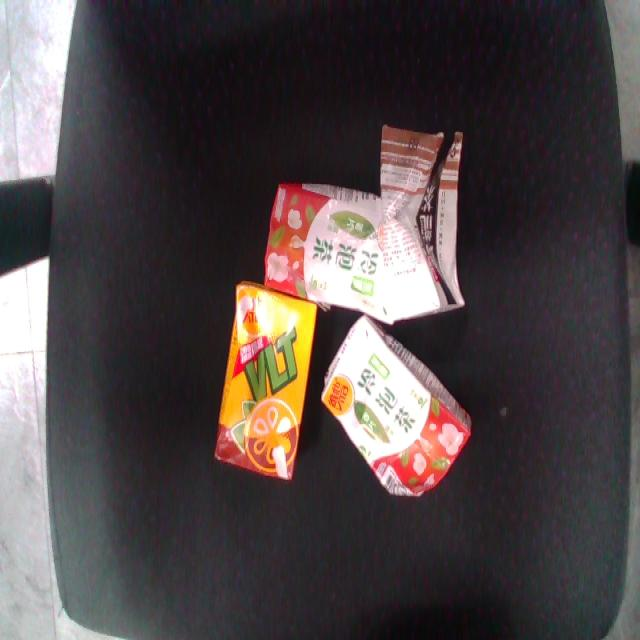juicebox: (260, 292, 500, 532), (201, 270, 331, 494), (367, 108, 487, 342), (250, 175, 426, 328)
